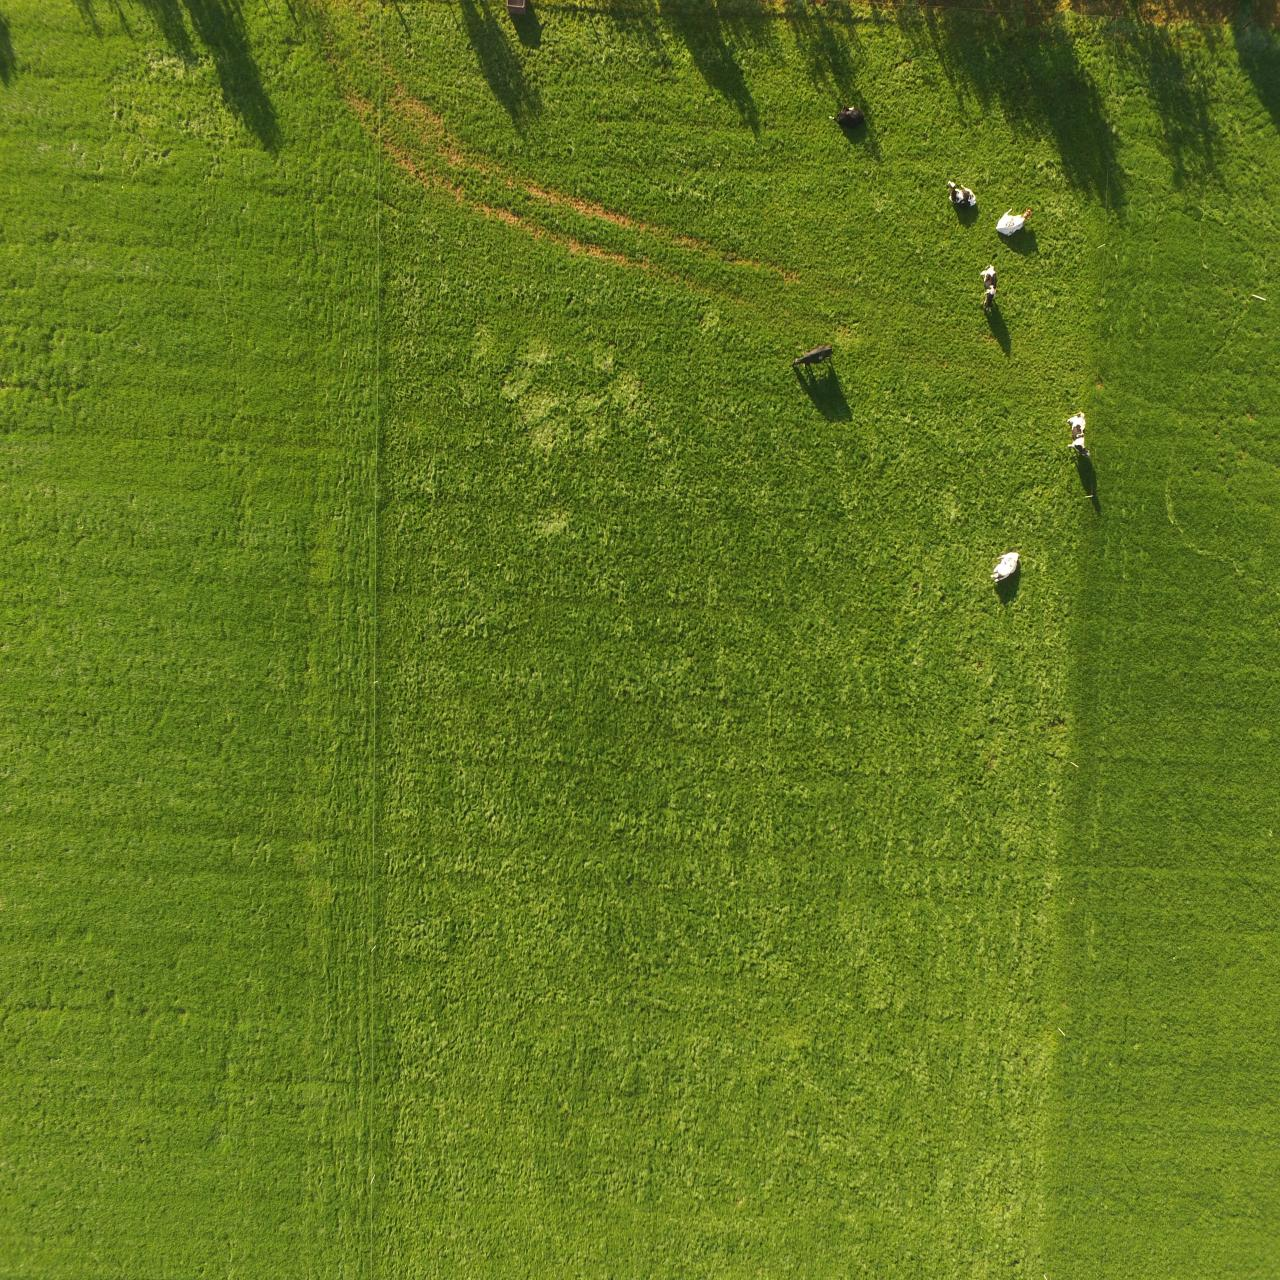cow: (825, 83, 869, 142), (788, 338, 842, 381), (941, 166, 976, 222), (995, 200, 1035, 248), (988, 543, 1024, 594), (1065, 402, 1092, 458), (979, 256, 1003, 308)
